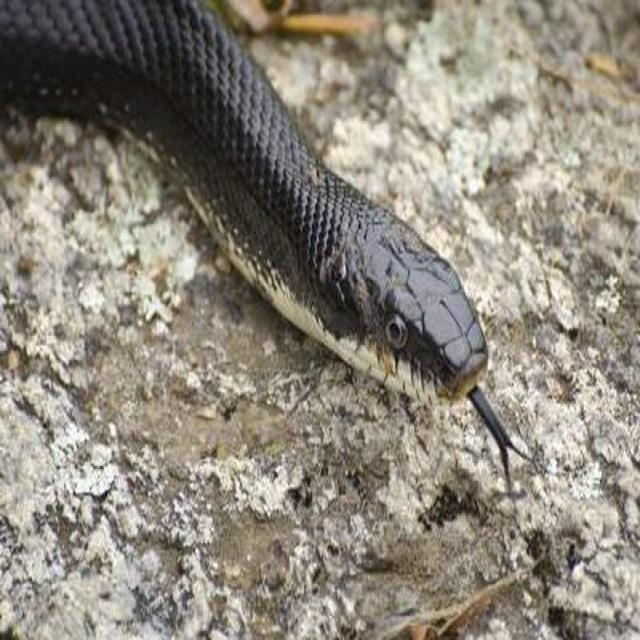Snake: (0, 0, 537, 493)
